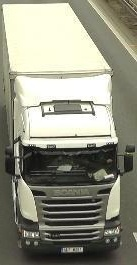truck: (2, 4, 134, 257)
